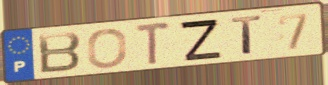7: (277, 12, 310, 51)
B: (36, 30, 83, 76)
O: (86, 27, 129, 69)
T: (134, 20, 173, 68), (229, 14, 264, 57)
Z: (177, 17, 225, 62)
